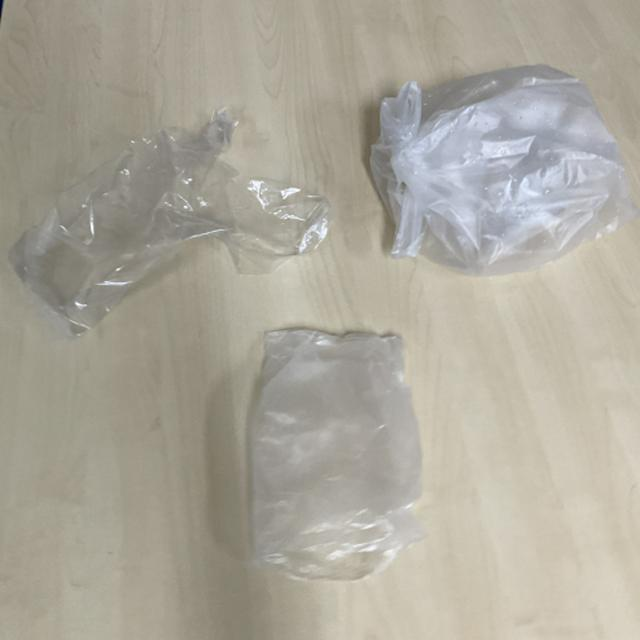Single-layer Plastic: (9, 110, 334, 334), (370, 65, 639, 274), (251, 330, 425, 579)
